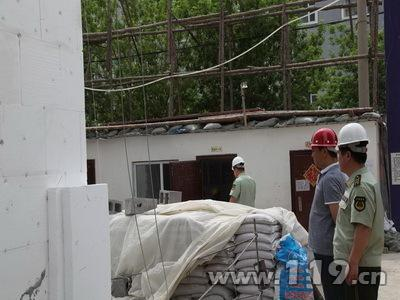hard-hat: (336, 121, 369, 148), (310, 127, 338, 148), (231, 155, 244, 169)
person: (331, 121, 385, 299), (307, 127, 353, 299), (227, 156, 256, 206)
